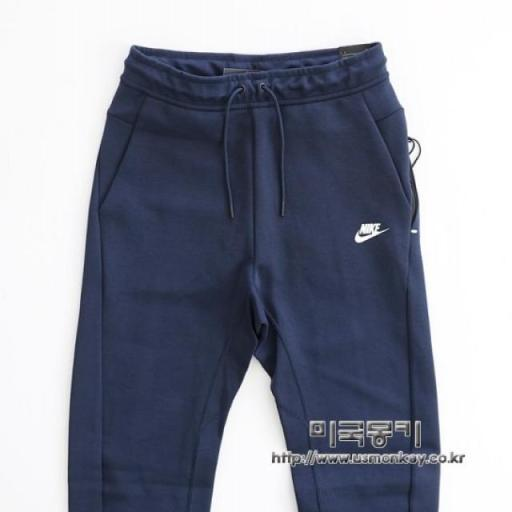Nike: (353, 230, 389, 244), (360, 223, 380, 234)
